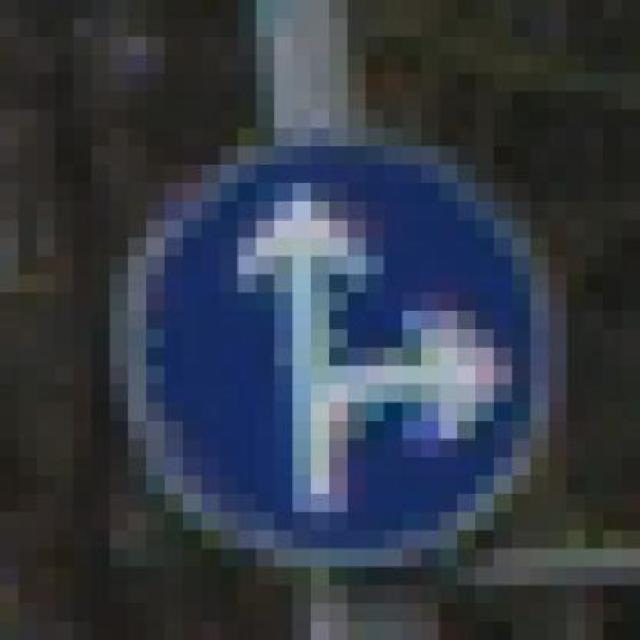Go Straight or Turn Right: (73, 128, 585, 586)
